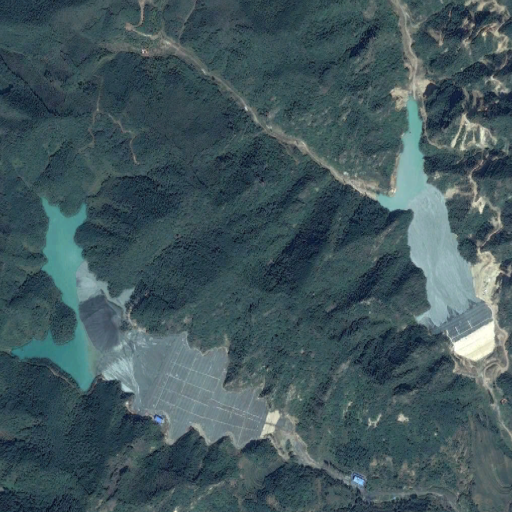tp: (11, 193, 280, 445), (378, 91, 496, 361)
